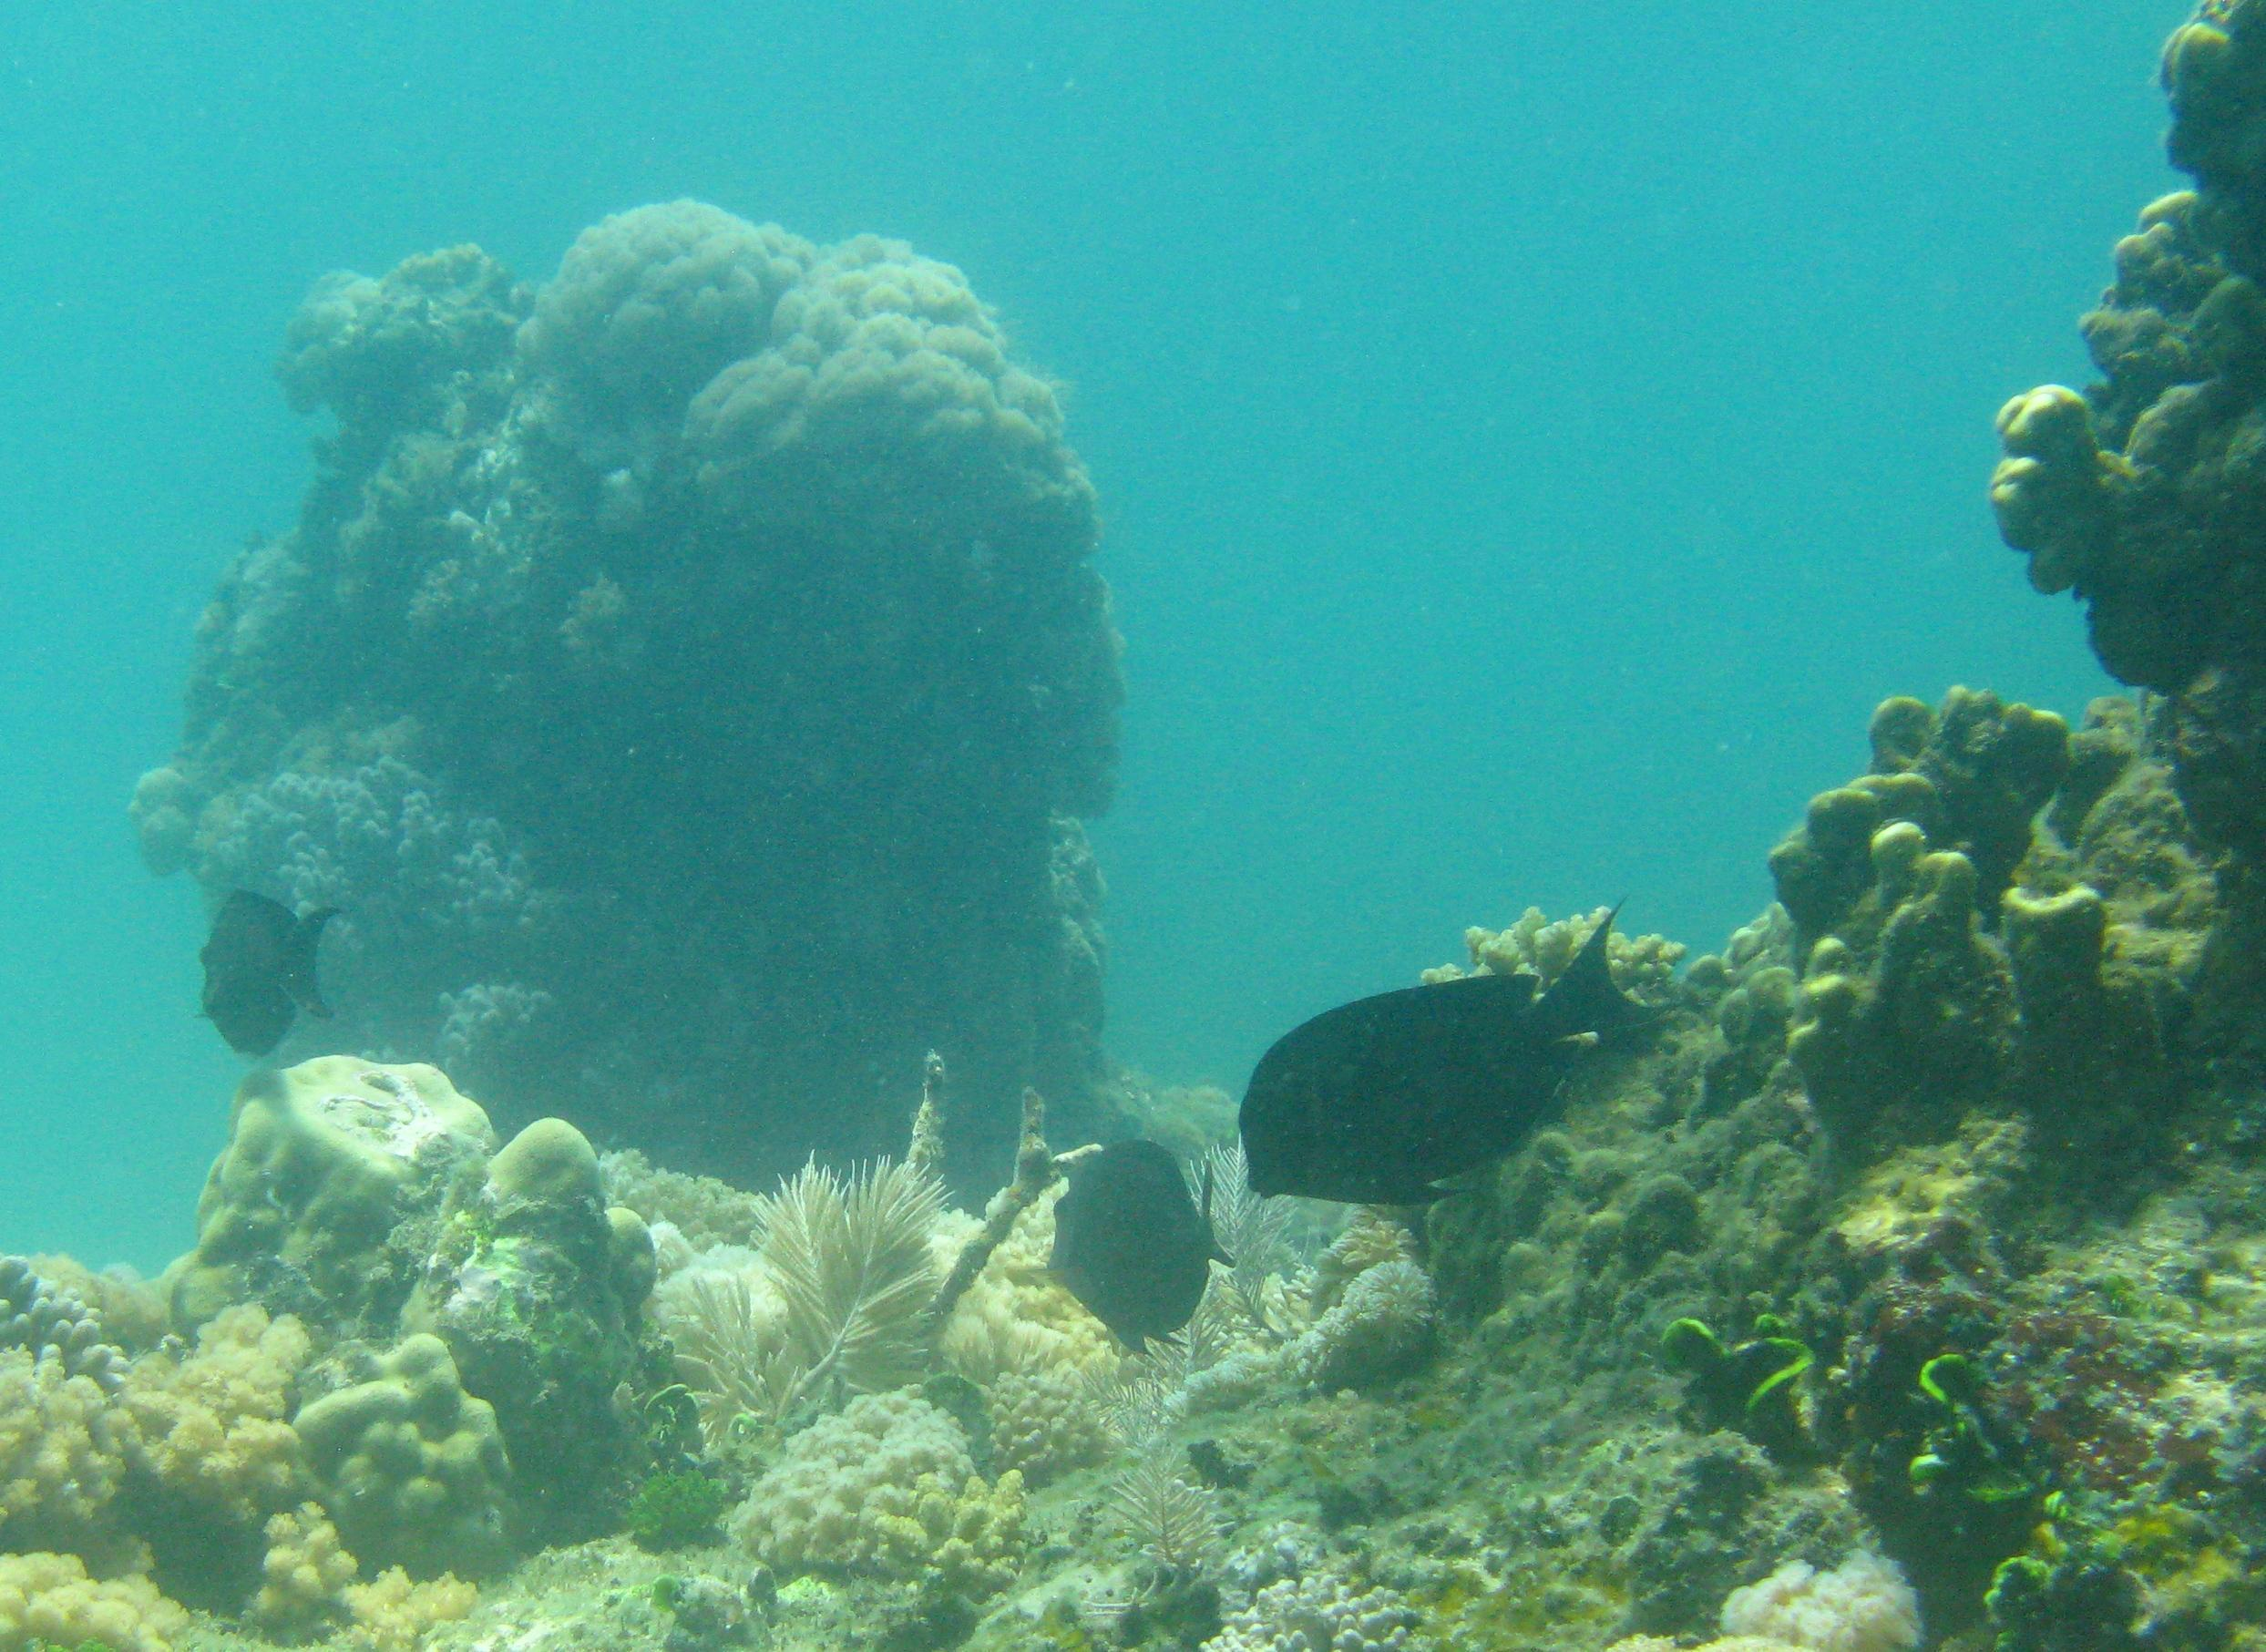Fish: (1188, 918, 1807, 1267)
